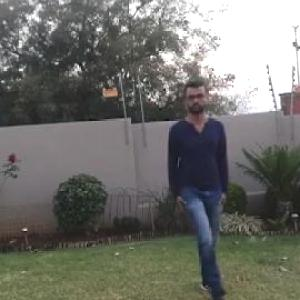follow: (139, 69, 223, 299)
